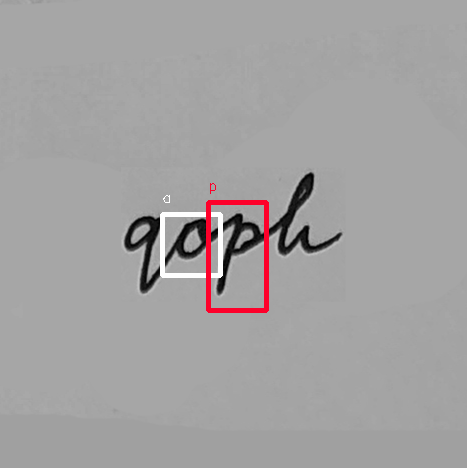h: (271, 169, 322, 259)
o: (170, 214, 213, 263)
p: (214, 210, 265, 300)
q: (120, 211, 165, 297)
